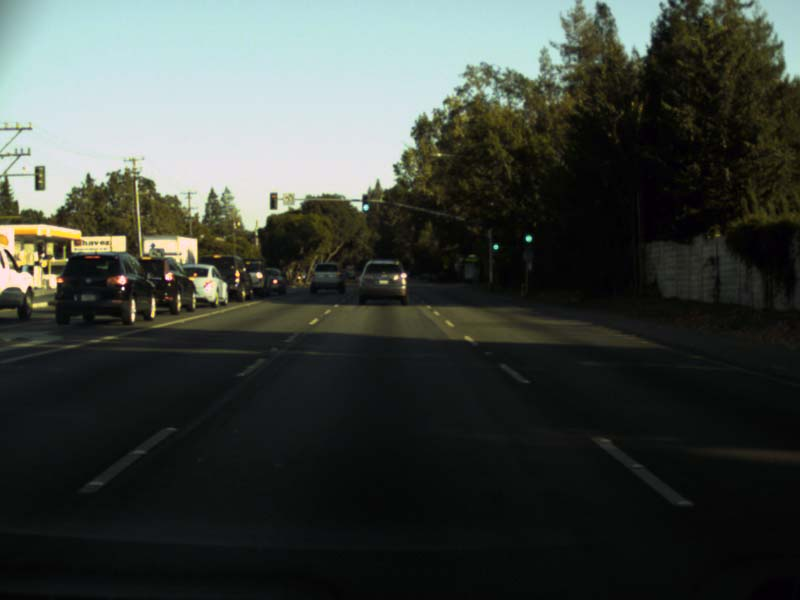Green: (524, 221, 533, 242), (493, 237, 499, 251), (362, 196, 368, 210)
Red: (270, 193, 276, 208)
